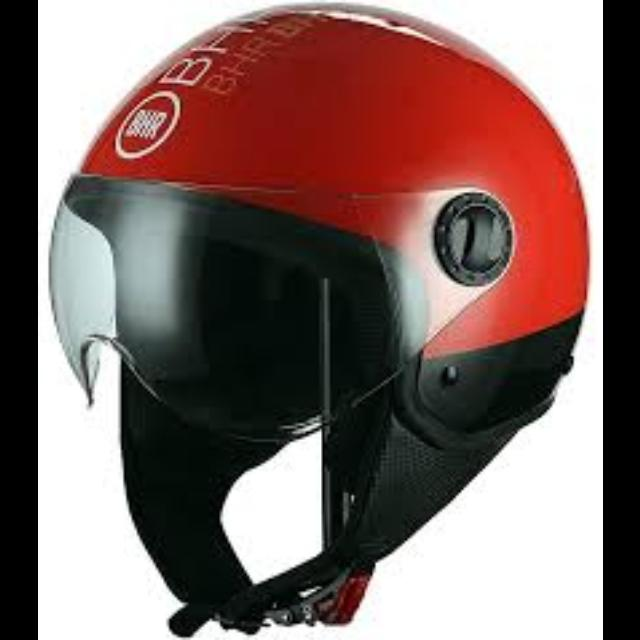motorcycle-helmets: (42, 4, 594, 634)
